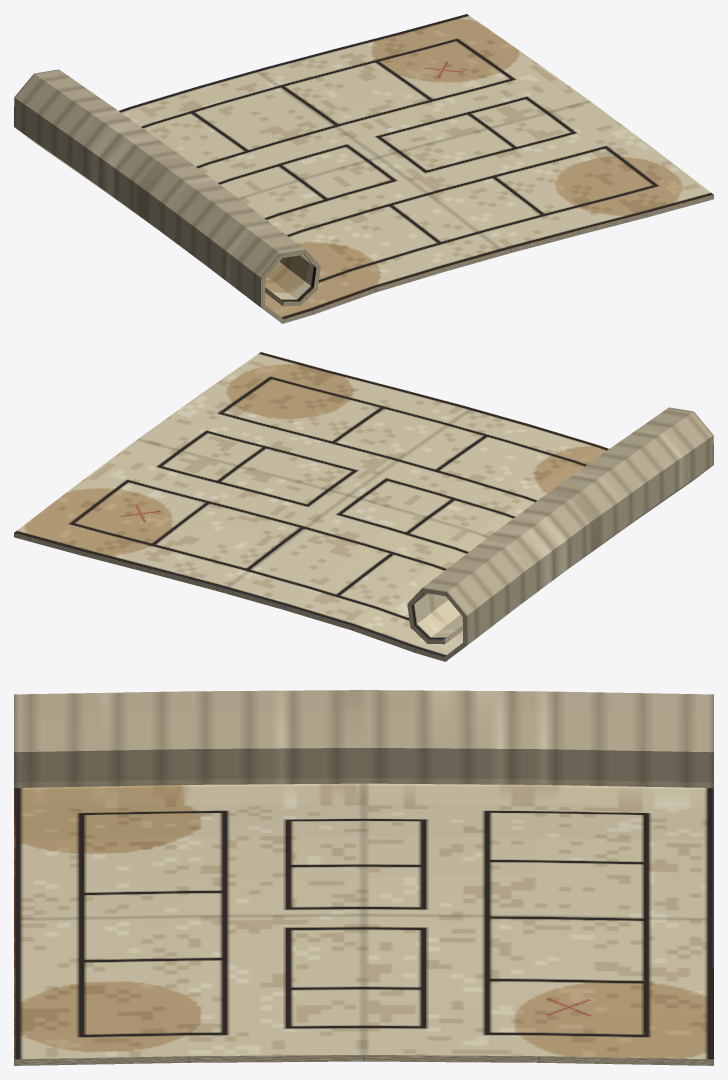
The model's file is Item_MansionMap.fbx.
3 renders of one model, top to bottom at view 1: azimuth 30°, elevation 25°; view 2: azimuth 150°, elevation 25°; view 3: azimuth 270°, elevation 25°, orthographic. The views are drawn at different scales.
Visible parts, largest first — view 1: Item_MansionMap; view 2: Item_MansionMap; view 3: Item_MansionMap.
Part boxes in pixels (x1=…): Item_MansionMap: x1=14, y1=14, x2=713, y2=323; Item_MansionMap: x1=14, y1=352, x2=713, y2=661; Item_MansionMap: x1=14, y1=690, x2=713, y2=1065.
Size of the model in its own units: 30.73 by 4.74 by 29.01.
